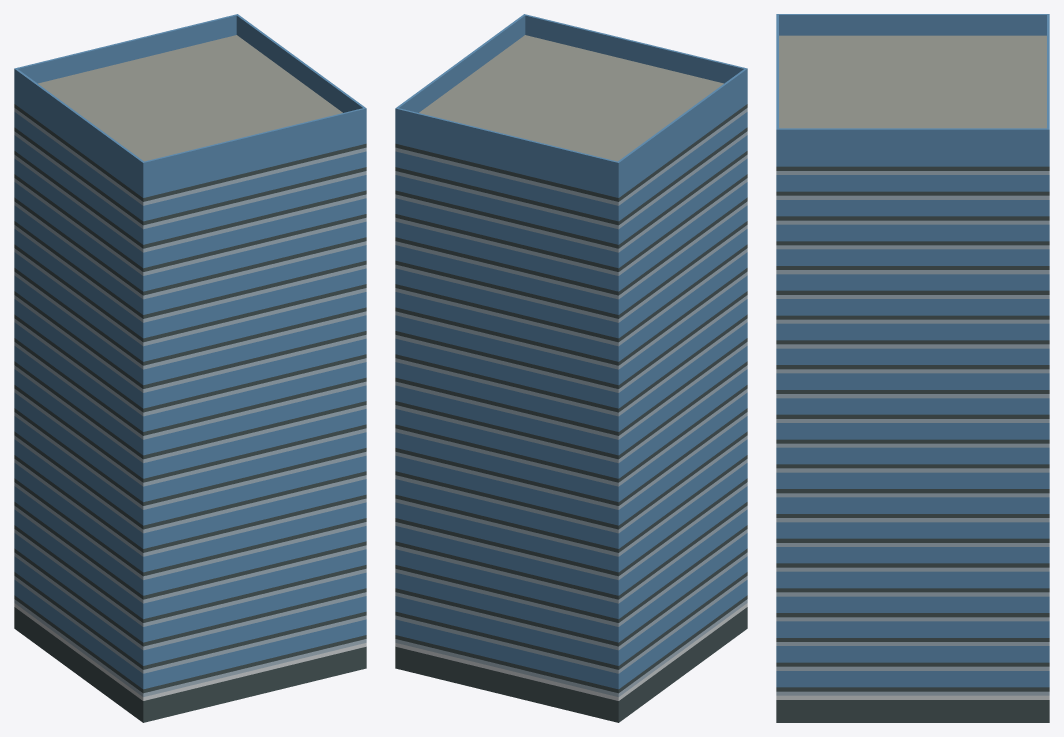
Rendered from far.fbx.
The picture shows the model from 3 angles, left to right: view 1: azimuth 30°, elevation 25°; view 2: azimuth 150°, elevation 25°; view 3: azimuth 270°, elevation 25°; orthographic projection. The views are drawn at different scales.
Visible parts, largest first — view 1: a2007/750/far; view 2: a2007/750/far; view 3: a2007/750/far.
Boxes of the visible parts, x1,y1,x2,y2 form: a2007/750/far: [14, 14, 366, 722]; a2007/750/far: [395, 14, 747, 722]; a2007/750/far: [776, 14, 1049, 722].
Bounding box in the file's own units: 30 × 71.8 × 30.
